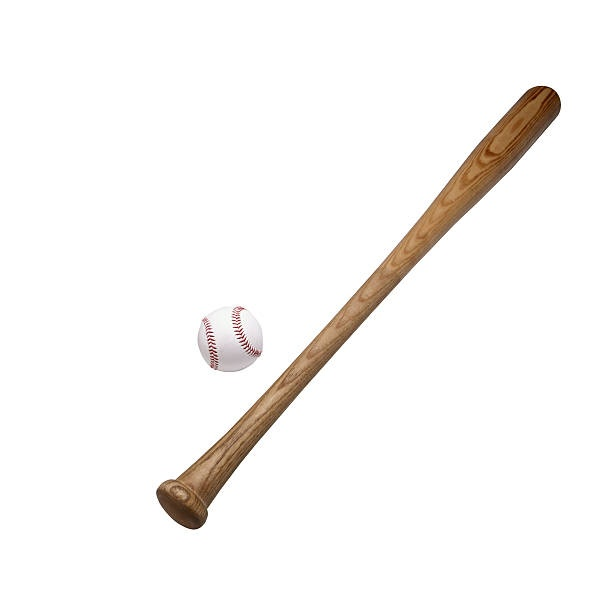bita: (155, 93, 558, 540)
